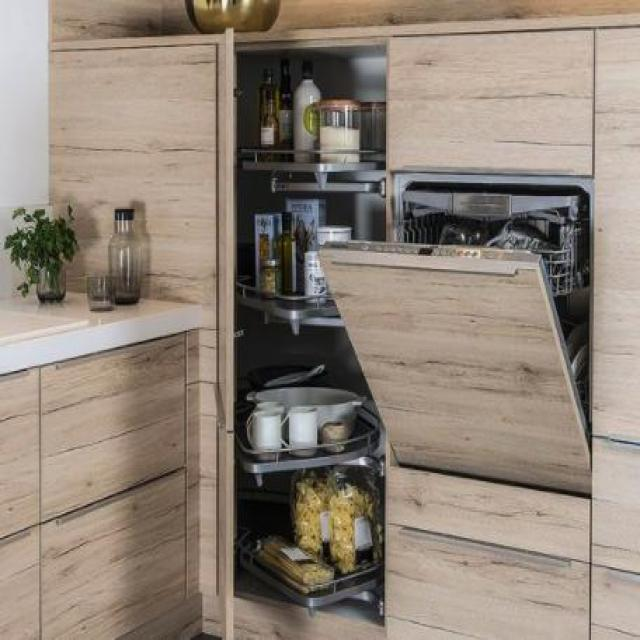dishwasher: (313, 159, 603, 504)
